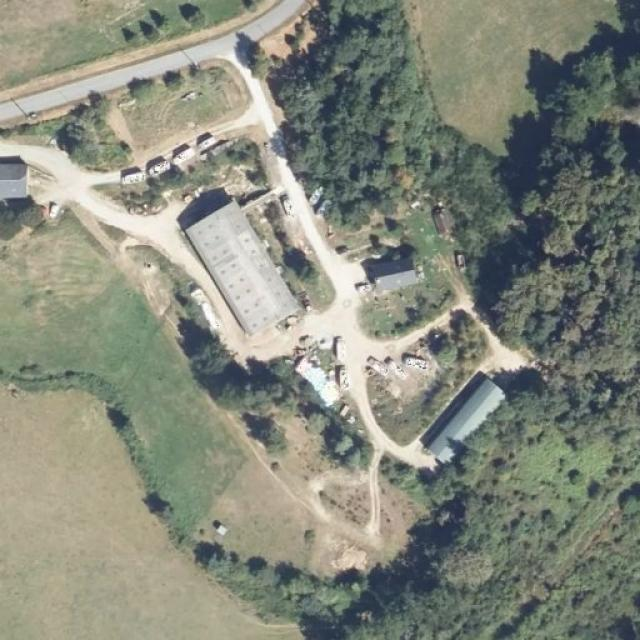ferme: (186, 186, 298, 334), (424, 363, 511, 458)
maison: (362, 243, 419, 295), (0, 146, 35, 205)
